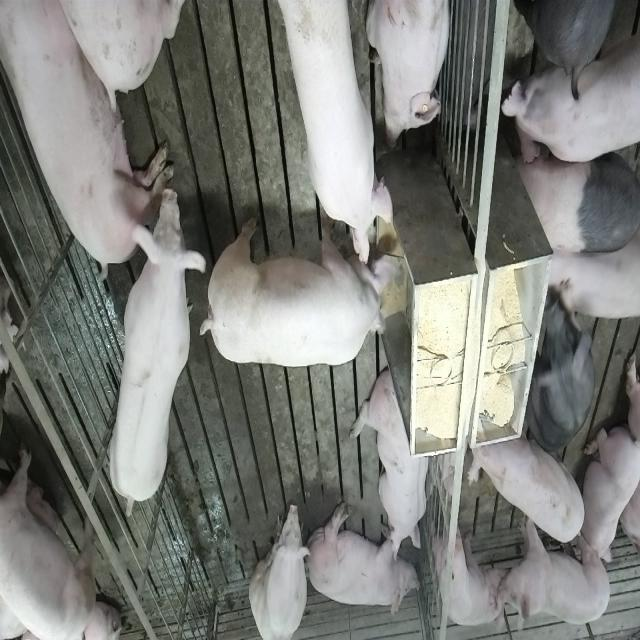Feeding: (276, 8, 396, 274), (200, 208, 394, 362)
Lateral_lying: (306, 500, 418, 620)
Sitting: (250, 498, 313, 640)
Standing: (103, 212, 203, 516), (500, 3, 638, 165), (0, 444, 96, 640), (471, 420, 589, 544), (493, 510, 612, 627), (516, 141, 638, 255), (528, 300, 598, 460), (516, 2, 622, 105), (545, 213, 640, 325), (436, 511, 508, 628)
Sternal_lying: (354, 366, 432, 562), (368, 0, 455, 147), (580, 420, 637, 570)
